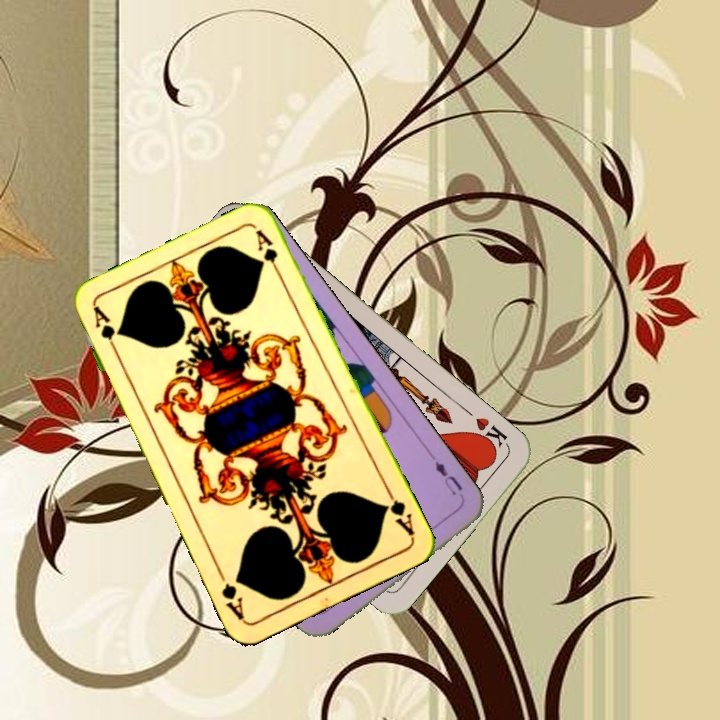EU: (427, 451, 465, 498)
GA: (380, 484, 417, 539), (89, 302, 122, 359)
HK: (468, 413, 511, 455)
